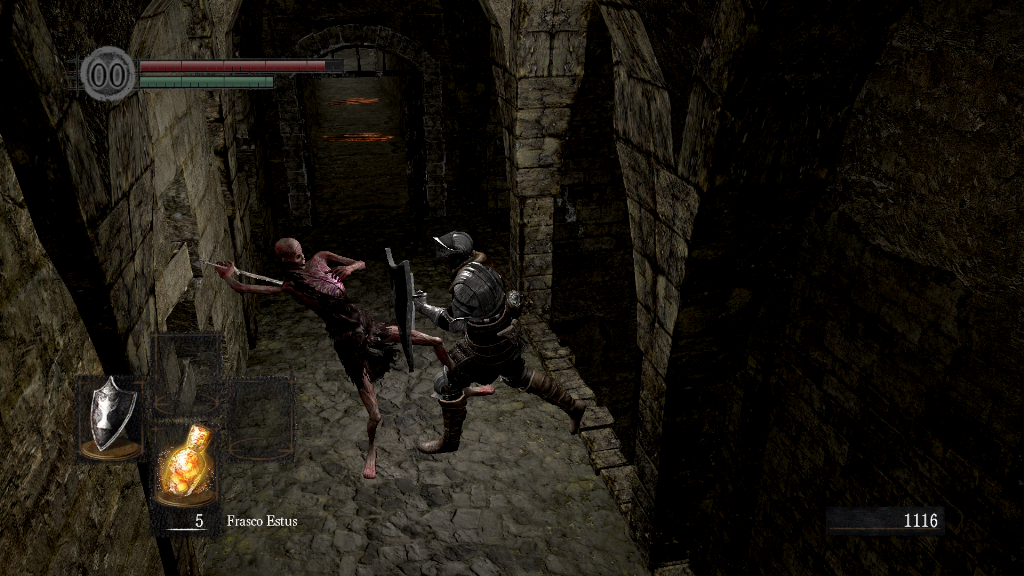health: (138, 58, 343, 71)
hollow: (204, 235, 398, 484)
humanity: (80, 45, 136, 102)
player: (383, 229, 589, 456)
souls: (825, 506, 945, 536)
stamina: (138, 74, 274, 88)
